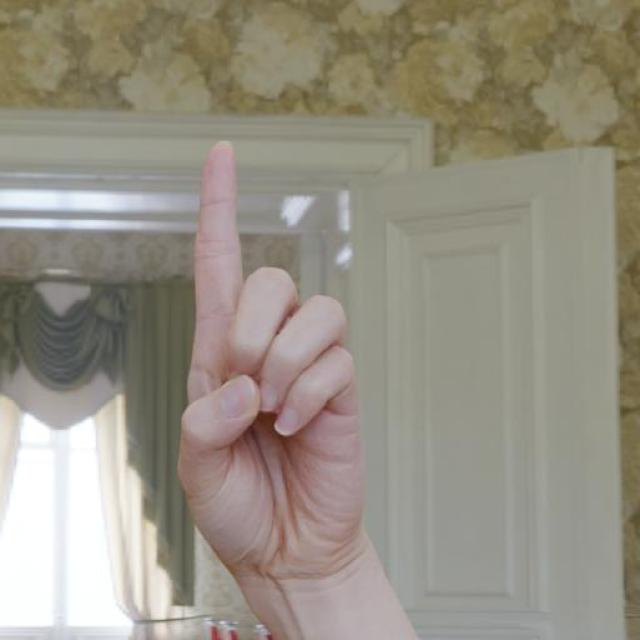D: (174, 136, 372, 575)
